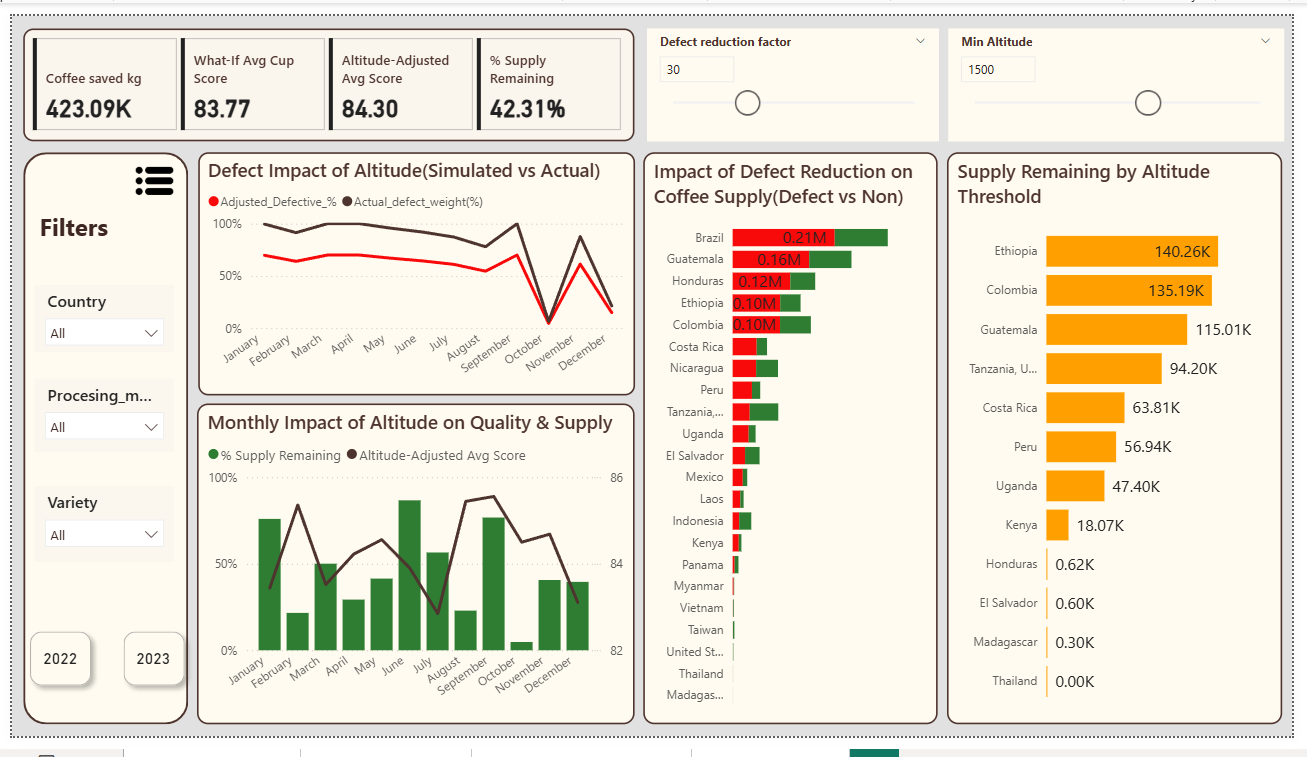

The dashboard page shown, as its layout file describes it:
{"tool":"powerbi","page":{"name":"what_if Analysis","canvas":[1280,720],"ordinal":3},"visuals":[{"type":"slicer","fields":{"Values":["Defect reduction factor.Defect reduction factor"]},"box":[635.3,12.3,290.9,112.5],"z":0},{"type":"barChart","title":"Impact of Defect Reduction on Coffee Supply(Defect vs Non)","fields":{"Category":["dim_country.country_of_origin"],"Y":["All_measures.Adjusted_Defective_Weight","All_measures.Adjusted_NonDefective_Weight"]},"box":[631,135.7,294.7,572.3],"z":1000},{"type":"lineChart","fields":{"Category":["DimDate.Date.Variation.Date Hierarchy.Month"],"Y":["All_measures.Adjusted_Defective_%","All_measures.Defective_Weight(%)"]},"box":[185.9,135.7,436.6,243.3],"z":2000},{"type":"cardVisual","fields":{"Data":["All_measures.Defects_Saved_kg","All_measures.avg _adj","All_measures.HighAltitudeAvgScore Trend","All_measures.Pct_Weight_Remaining"]},"box":[11,12.2,611.4,112.5],"z":3000},{"type":"slicer","fields":{"Values":["Min Altitude.Min Altitude"]},"box":[935.9,12.3,334.8,112.5],"z":4000},{"type":"barChart","fields":{"Category":["dim_country.country_of_origin"],"Y":["All_measures.HighAltitudeWeight"]},"box":[935.5,135.7,335.1,572.3],"z":5000},{"type":"shape","box":[11,135.7,165.1,572.3],"z":6000},{"type":"slicer","fields":{"Values":["dim_country.country_of_origin"]},"box":[22,269,139.4,67.3],"z":7000},{"type":"slicer","fields":{"Values":["dim_processing_method.processing_method"]},"box":[22,362,139.4,73.4],"z":8000},{"type":"slicer","fields":{"Values":["dim_variety.variety"]},"box":[22,469.6,139.4,75.8],"z":9000},{"type":"advancedSlicerVisual","fields":{"Values":["DimDate.Date.Variation.Date Hierarchy.Year"]},"box":[0,596.7,193.2,85.6],"z":10000},{"type":"textbox","box":[22,189.5,137,52.6],"z":11000},{"type":"lineStackedColumnComboChart","title":"Monthly Impact of Altitude on Quality & Supply","fields":{"Y2":["All_measures.Altitude-Adjusted Avg Score"],"Y":["All_measures.% Supply Remaining"],"Category":["DimDate.Date.Variation.Date Hierarchy.Month"]},"box":[185.2,387,437.7,321.1],"z":12000},{"type":"image","box":[112.8,141.7,59.3,47.7],"z":14000}]}

Visuals, with their boxes in screenshot pixels (x1, y1, x2, y2), scaled from the page's 1280x720 canvas onto the 1307x757 screenshot:
slicer - Defect reduction factor.Defect reduction factor: 649,13,946,131
"Impact of Defect Reduction on Coffee Supply(Defect vs Non)" barChart: 644,143,945,744
lineChart - DimDate.Date.Variation.Date Hierarchy.Month x All_measures.Adjusted_Defective_%: 190,143,636,398
cardVisual - All_measures.Defects_Saved_kg x All_measures.avg _adj: 11,13,636,131
slicer - Min Altitude.Min Altitude: 956,13,1298,131
barChart - dim_country.country_of_origin x All_measures.HighAltitudeWeight: 955,143,1297,744
shape: 11,143,180,744
slicer - dim_country.country_of_origin: 22,283,165,354
slicer - dim_processing_method.processing_method: 22,381,165,458
slicer - dim_variety.variety: 22,494,165,573
advancedSlicerVisual - DimDate.Date.Variation.Date Hierarchy.Year: 0,627,197,717
textbox: 22,199,162,255
"Monthly Impact of Altitude on Quality & Supply" lineStackedColumnComboChart: 189,407,636,744
image: 115,149,176,199
